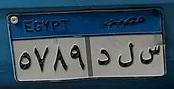5: (17, 51, 32, 72)
7: (33, 43, 50, 74)
8: (51, 45, 69, 74)
9: (69, 43, 86, 74)
daal: (95, 47, 112, 70)
laam: (116, 38, 135, 72)
seen: (139, 43, 161, 68)
